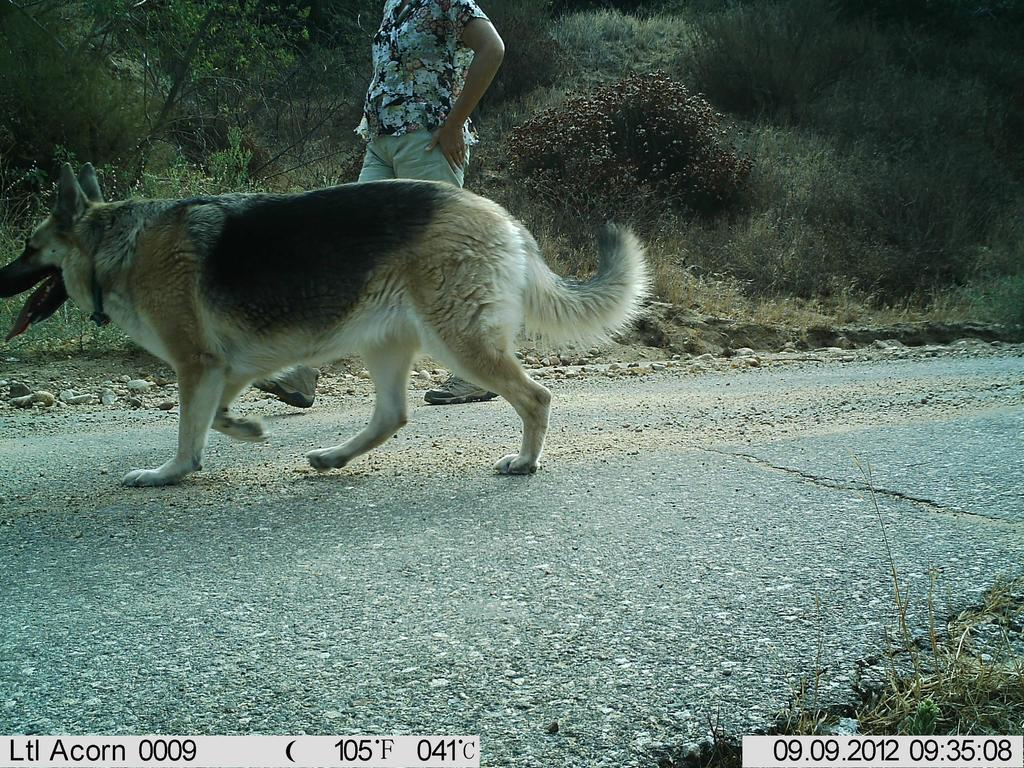dog: (3, 153, 663, 502)
